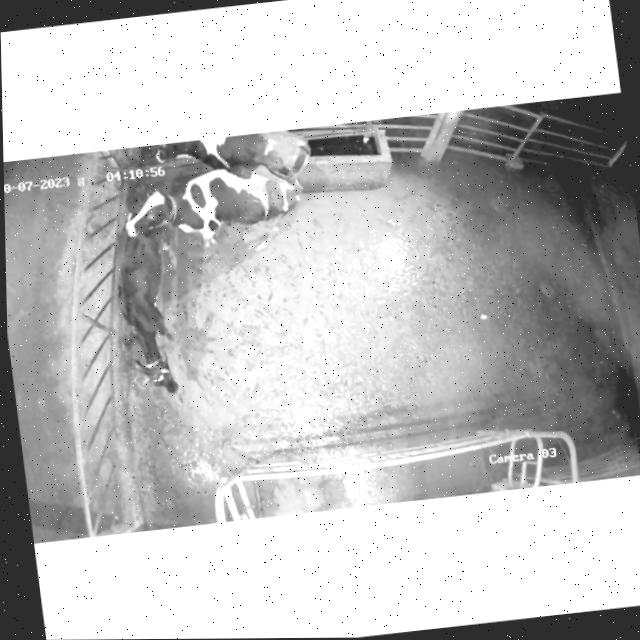propping: (108, 179, 208, 251)
